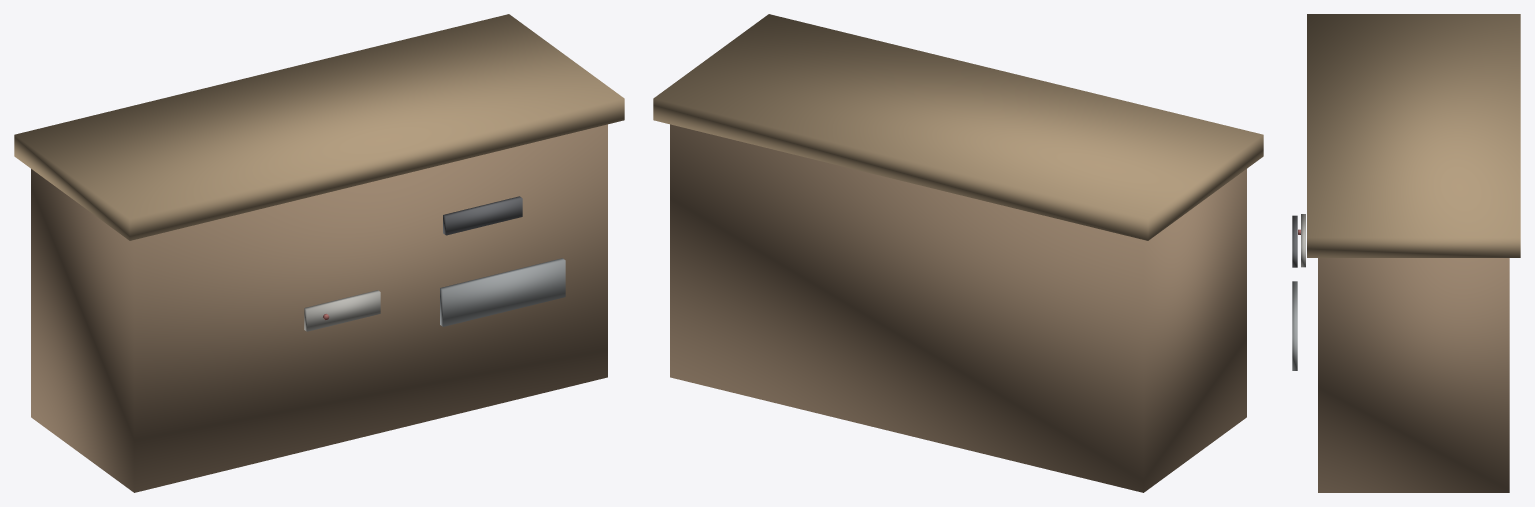
The model's file is bagging_stand__weathered.glb.
3 renders of one model, left to right at view 1: azimuth 30°, elevation 25°; view 2: azimuth 150°, elevation 25°; view 3: azimuth 270°, elevation 25°, orthographic. The views are drawn at different scales.
Parts seen in each view (by area): view 1: world; view 2: world; view 3: world.
Boxes of the visible parts, x1,y1,x2,y2 form: world: (14, 14, 624, 492); world: (653, 14, 1263, 492); world: (1292, 14, 1520, 492).
Bounding box in the file's own units: 1.88 × 1.02 × 0.812.
